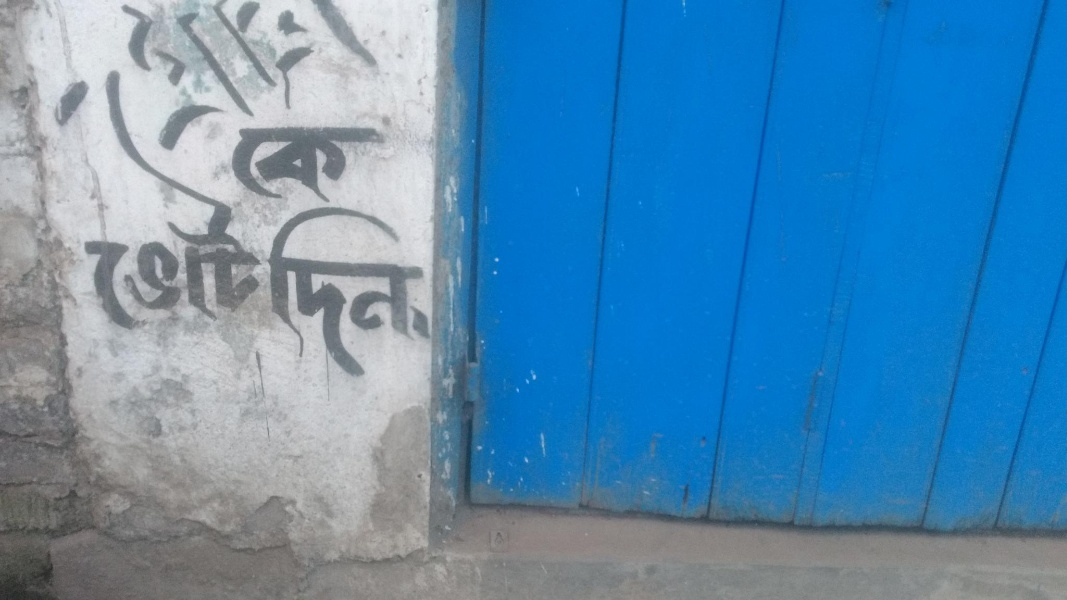text: (33, 67, 48, 333), (49, 67, 64, 333), (65, 67, 80, 333), (81, 67, 96, 333), (97, 67, 112, 333), (113, 67, 128, 333), (129, 67, 144, 333), (145, 67, 160, 333), (161, 67, 176, 333), (177, 67, 192, 333), (193, 67, 208, 333), (209, 67, 224, 333), (225, 67, 240, 333), (241, 67, 256, 333), (257, 67, 272, 333), (417, 191, 433, 377), (289, 191, 304, 377), (305, 191, 320, 377), (321, 191, 336, 377), (337, 191, 352, 377), (353, 191, 368, 377), (369, 191, 384, 377), (385, 191, 400, 377), (401, 191, 416, 377), (277, 191, 288, 377), (65, 5, 80, 109), (81, 5, 96, 109), (97, 5, 112, 109), (113, 5, 128, 109), (129, 5, 144, 109), (145, 5, 160, 109), (161, 5, 176, 109), (177, 5, 192, 109), (193, 5, 208, 109), (209, 5, 224, 109), (225, 5, 240, 109), (241, 5, 256, 109), (257, 5, 272, 109), (273, 5, 288, 109), (289, 5, 304, 109), (305, 5, 320, 109), (321, 5, 336, 109), (337, 5, 352, 109), (353, 5, 368, 109), (369, 5, 384, 109), (27, 67, 32, 333), (241, 126, 256, 210), (257, 126, 272, 210), (273, 126, 288, 210), (289, 126, 304, 210), (305, 126, 320, 210), (321, 126, 336, 210), (337, 126, 352, 210), (353, 126, 368, 210), (369, 126, 384, 210), (54, 5, 64, 109), (385, 5, 391, 109), (236, 126, 240, 210), (273, 67, 274, 333), (385, 126, 388, 210)
